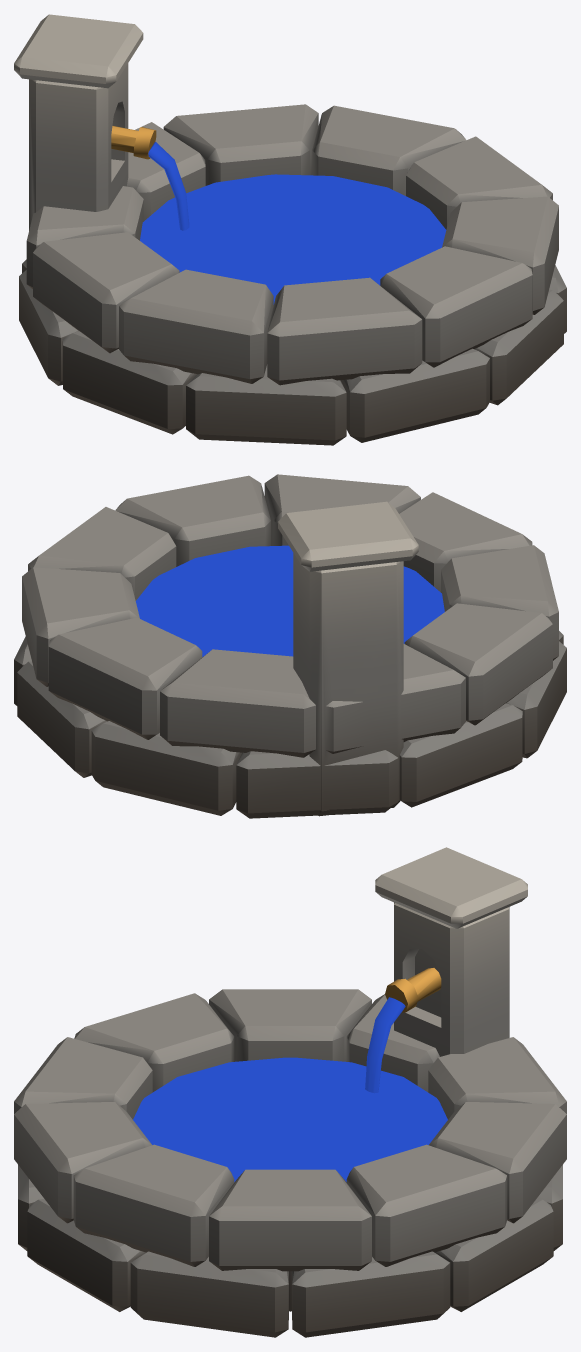
The model's file is fountain_spring_mana.glb.
3 renders of one model, top to bottom at view 1: azimuth 30°, elevation 25°; view 2: azimuth 150°, elevation 25°; view 3: azimuth 270°, elevation 25°, orthographic. The views are drawn at different scales.
Parts seen in each view (by area): view 1: Item, Liquid; view 2: Item, Liquid; view 3: Item, Liquid.
Boxes of the visible parts, bbox=[...] form: Item: bbox=[14, 14, 566, 445]; Liquid: bbox=[140, 142, 446, 304]; Item: bbox=[14, 474, 566, 818]; Liquid: bbox=[135, 545, 444, 656]; Item: bbox=[14, 847, 566, 1337]; Liquid: bbox=[133, 997, 447, 1181].
Bounding box in the file's own units: 2.27 × 1.24 × 2.23.
3 materials, 3 textured.
